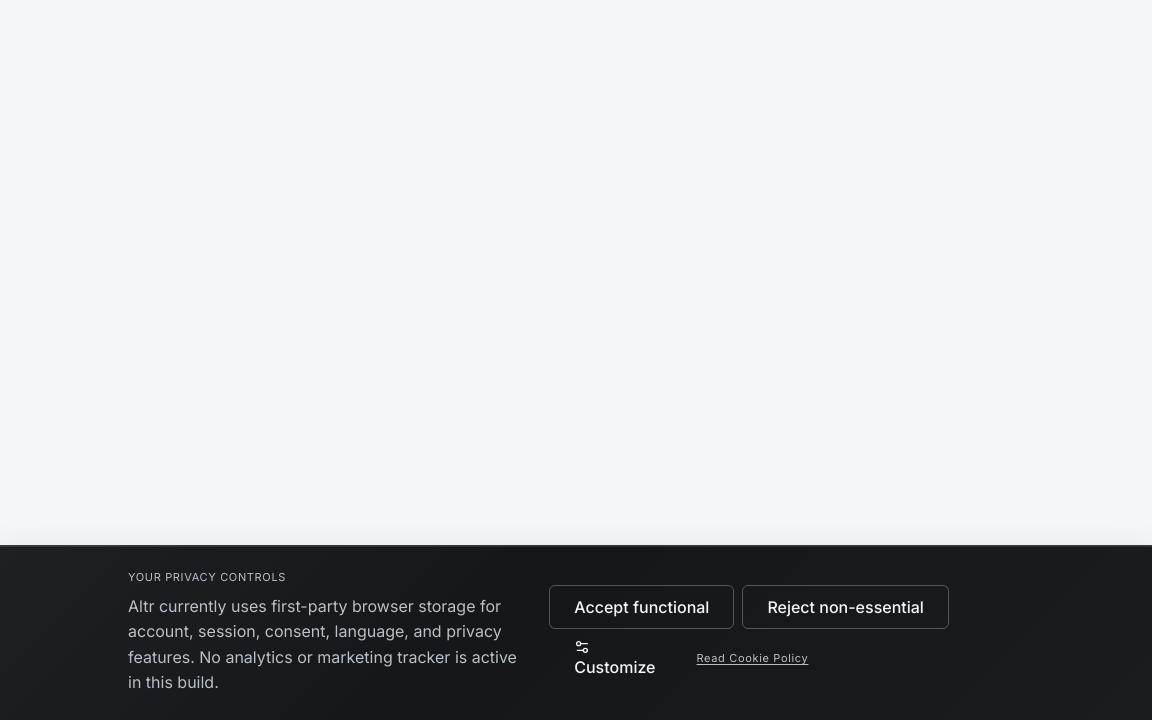
CookieConsent › customize opens a dialog listing all four categories, with analytics/marketing shown as genuinely unavailable, not toggleable
This screenshot has width=1152, height=720.
Step 1. Click the button "Customize" → (615,659), box [549,637,681,681]
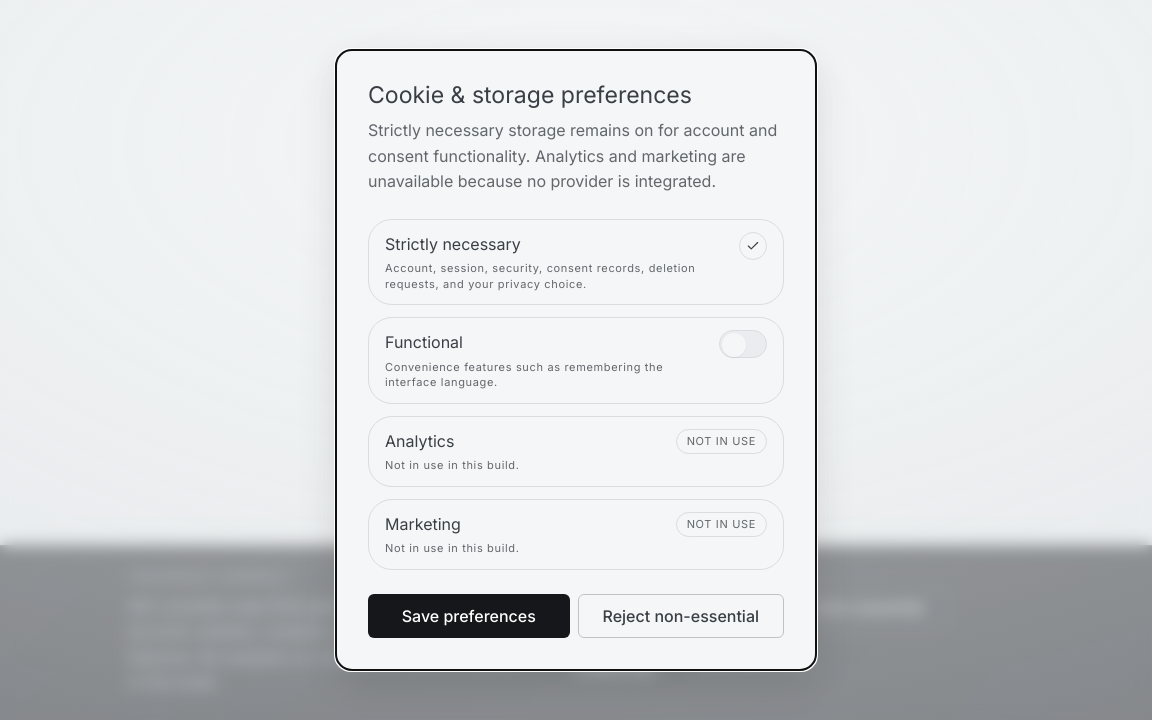
Expected: the dialog shows "Cookie & storage preferences", [368,81,692,109]
Expected: the text "Strictly necessary" is shown, [385,234,521,254]
Expected: the text "Functional" is shown, [385,332,463,352]
